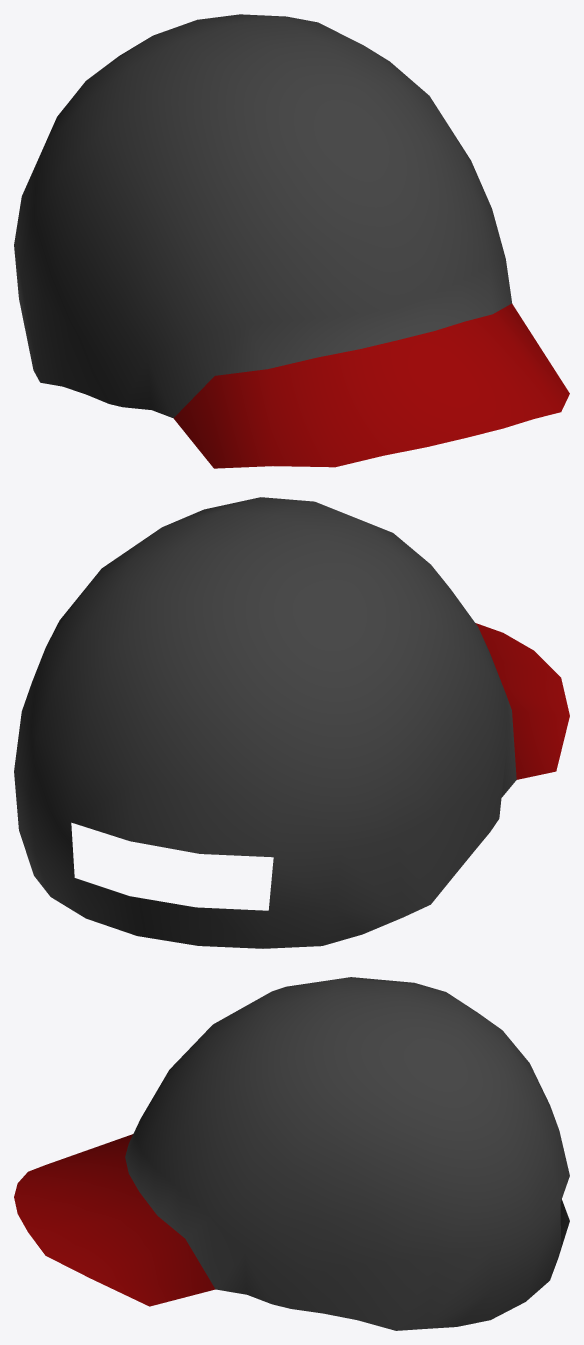
Rendered from Baseball_cap.FBX.
The picture shows the model from 3 angles, top to bottom: view 1: azimuth 30°, elevation 25°; view 2: azimuth 150°, elevation 25°; view 3: azimuth 270°, elevation 25°; orthographic projection. The views are drawn at different scales.
Visible parts, largest first — view 1: Object001; view 2: Object001; view 3: Object001.
Part boxes in pixels (bbox=[...]): Object001: bbox=[14, 14, 569, 468]; Object001: bbox=[14, 497, 569, 948]; Object001: bbox=[14, 977, 569, 1330].
Size of the model in its own units: 19.88 by 29.55 by 15.71.
